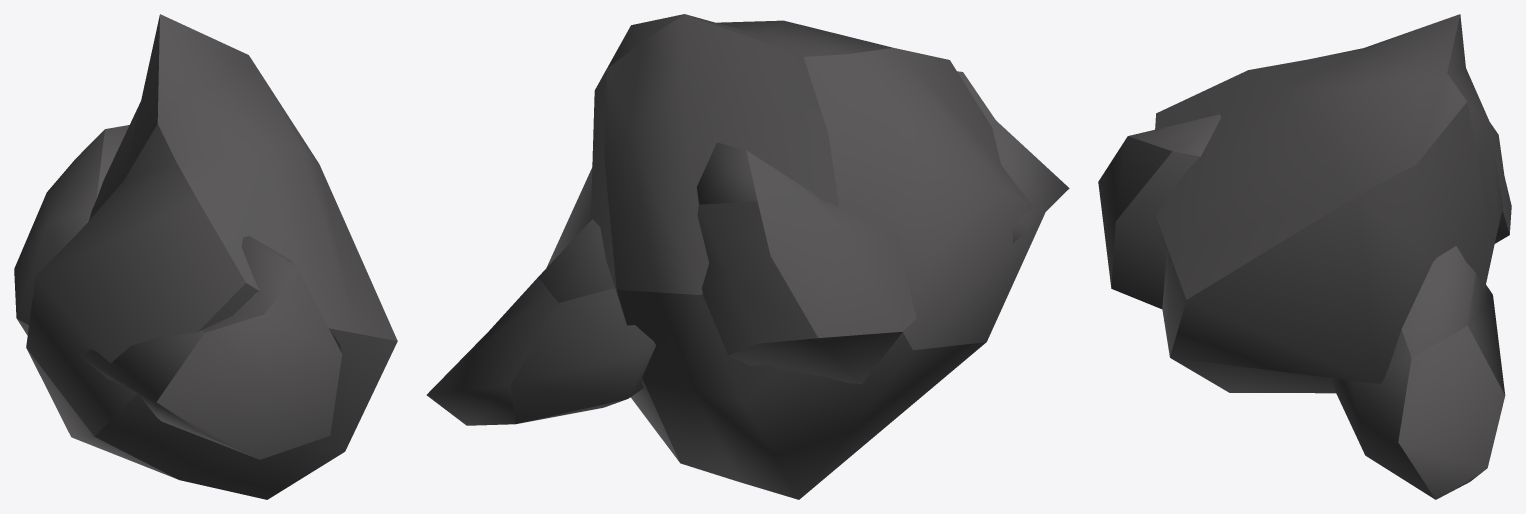
The model's file is Rock003.FBX.
3 renders of one model, left to right at view 1: azimuth 30°, elevation 25°; view 2: azimuth 150°, elevation 25°; view 3: azimuth 270°, elevation 25°, orthographic. The views are drawn at different scales.
Parts seen in each view (by area): view 1: Rock003; view 2: Rock003; view 3: Rock003.
Part boxes in pixels (bbox=[...]): Rock003: bbox=[14, 14, 397, 499]; Rock003: bbox=[426, 14, 1069, 499]; Rock003: bbox=[1098, 14, 1511, 499].
Size of the model in its own units: 286 by 267 by 258.
